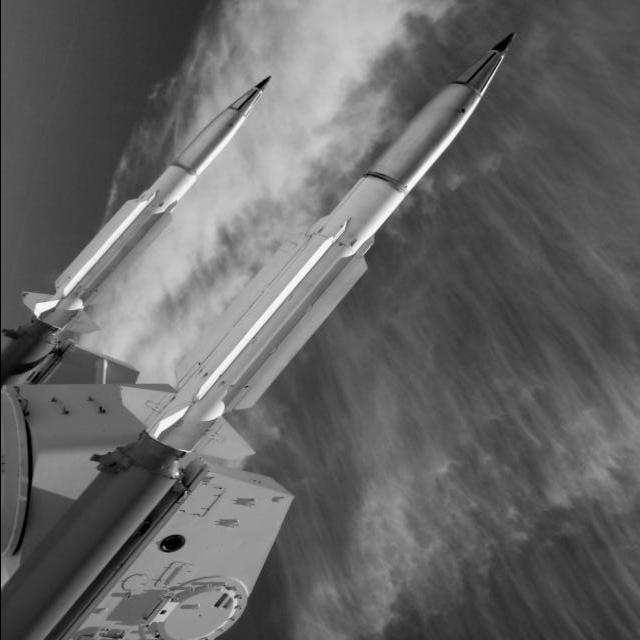missile: (129, 0, 564, 475), (2, 40, 309, 355)
